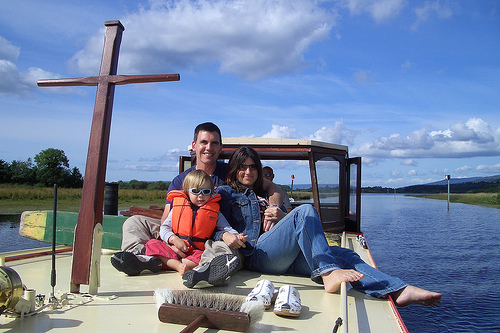without_mask: (188, 122, 224, 168), (182, 176, 218, 212), (228, 154, 262, 189), (260, 163, 277, 181)
